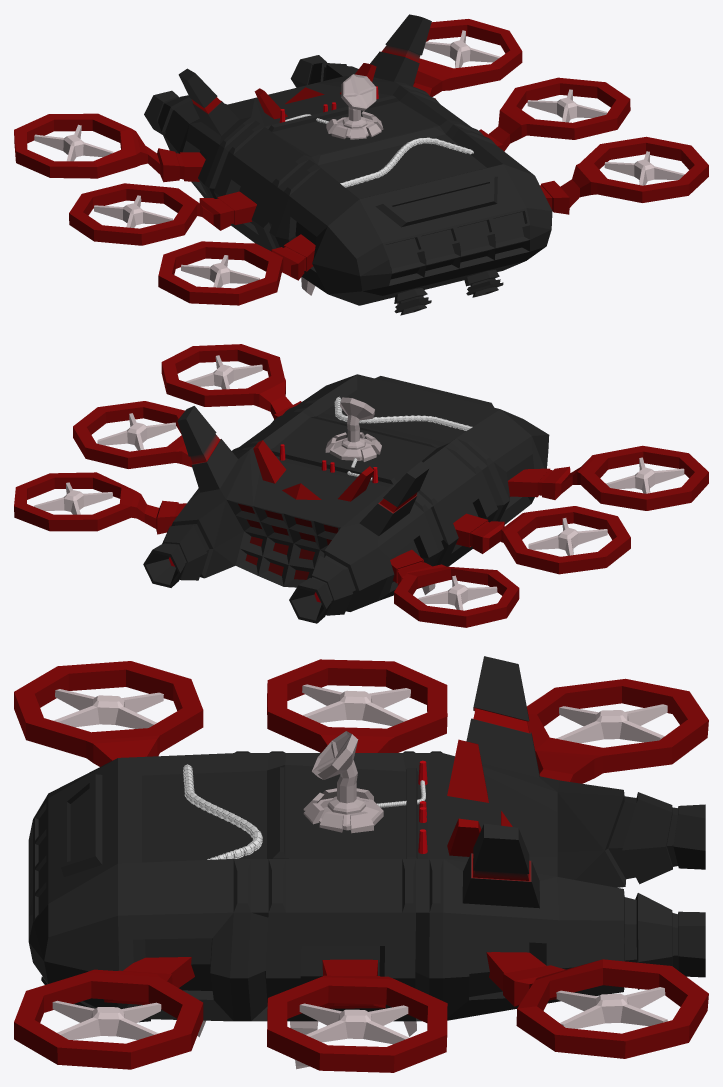
Rendered from dRONE vERIS UNITY.fbx.
3 views of the same model, one above another, from view 1: azimuth 30°, elevation 25°; view 2: azimuth 150°, elevation 25°; view 3: azimuth 270°, elevation 25° (orthographic). The views are drawn at different scales.
Visible parts, largest first — view 1: Drone, Drone.011, Drone.008, Drone.010, Drone.007, Drone.012, Drone.009, Cabel 2; view 2: Drone, Drone.012, Drone.009, Drone.007, Drone.011, Drone.008, Drone.010, Cabel 2; view 3: Drone, Drone.010, Drone.009, Drone.011, Drone.012, Drone.007, Drone.008, Cabel 2.
Boxes of the visible parts, bbox=[...] form: Drone: bbox=[14, 14, 708, 315]; Drone.011: bbox=[34, 124, 113, 161]; Drone.008: bbox=[604, 151, 684, 185]; Drone.010: bbox=[424, 30, 500, 68]; Drone.007: bbox=[181, 255, 259, 287]; Drone.012: bbox=[94, 195, 172, 227]; Drone.009: bbox=[527, 89, 606, 122]; Cabel 2: bbox=[340, 137, 473, 187]; Drone: bbox=[14, 344, 708, 627]; Drone.012: bbox=[528, 518, 607, 555]; Drone.009: bbox=[97, 413, 176, 450]; Drone.007: bbox=[606, 457, 684, 493]; Drone.011: bbox=[418, 575, 497, 610]; Drone.008: bbox=[185, 355, 262, 389]; Drone.010: bbox=[34, 482, 112, 514]; Cabel 2: bbox=[334, 396, 472, 430]; Drone: bbox=[14, 656, 708, 1072]; Drone.010: bbox=[556, 987, 667, 1028]; Drone.009: bbox=[299, 1003, 409, 1044]; Drone.011: bbox=[556, 704, 667, 743]; Drone.012: bbox=[302, 684, 410, 726]; Drone.007: bbox=[53, 689, 163, 728]; Drone.008: bbox=[52, 1000, 161, 1039]; Cabel 2: bbox=[183, 764, 262, 859].
Size of the model in its own units: 1013 by 359 by 755.
